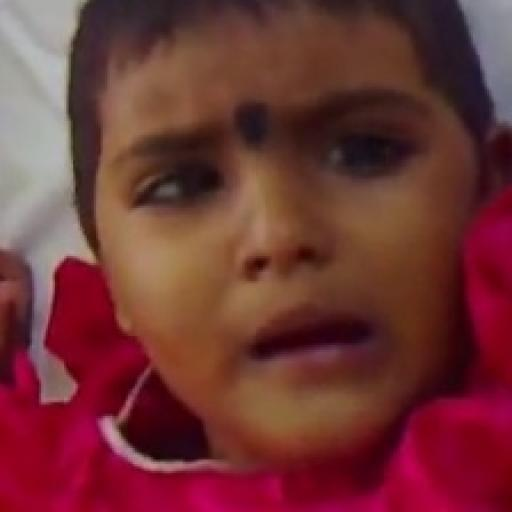Autism: (77, 36, 512, 511)
